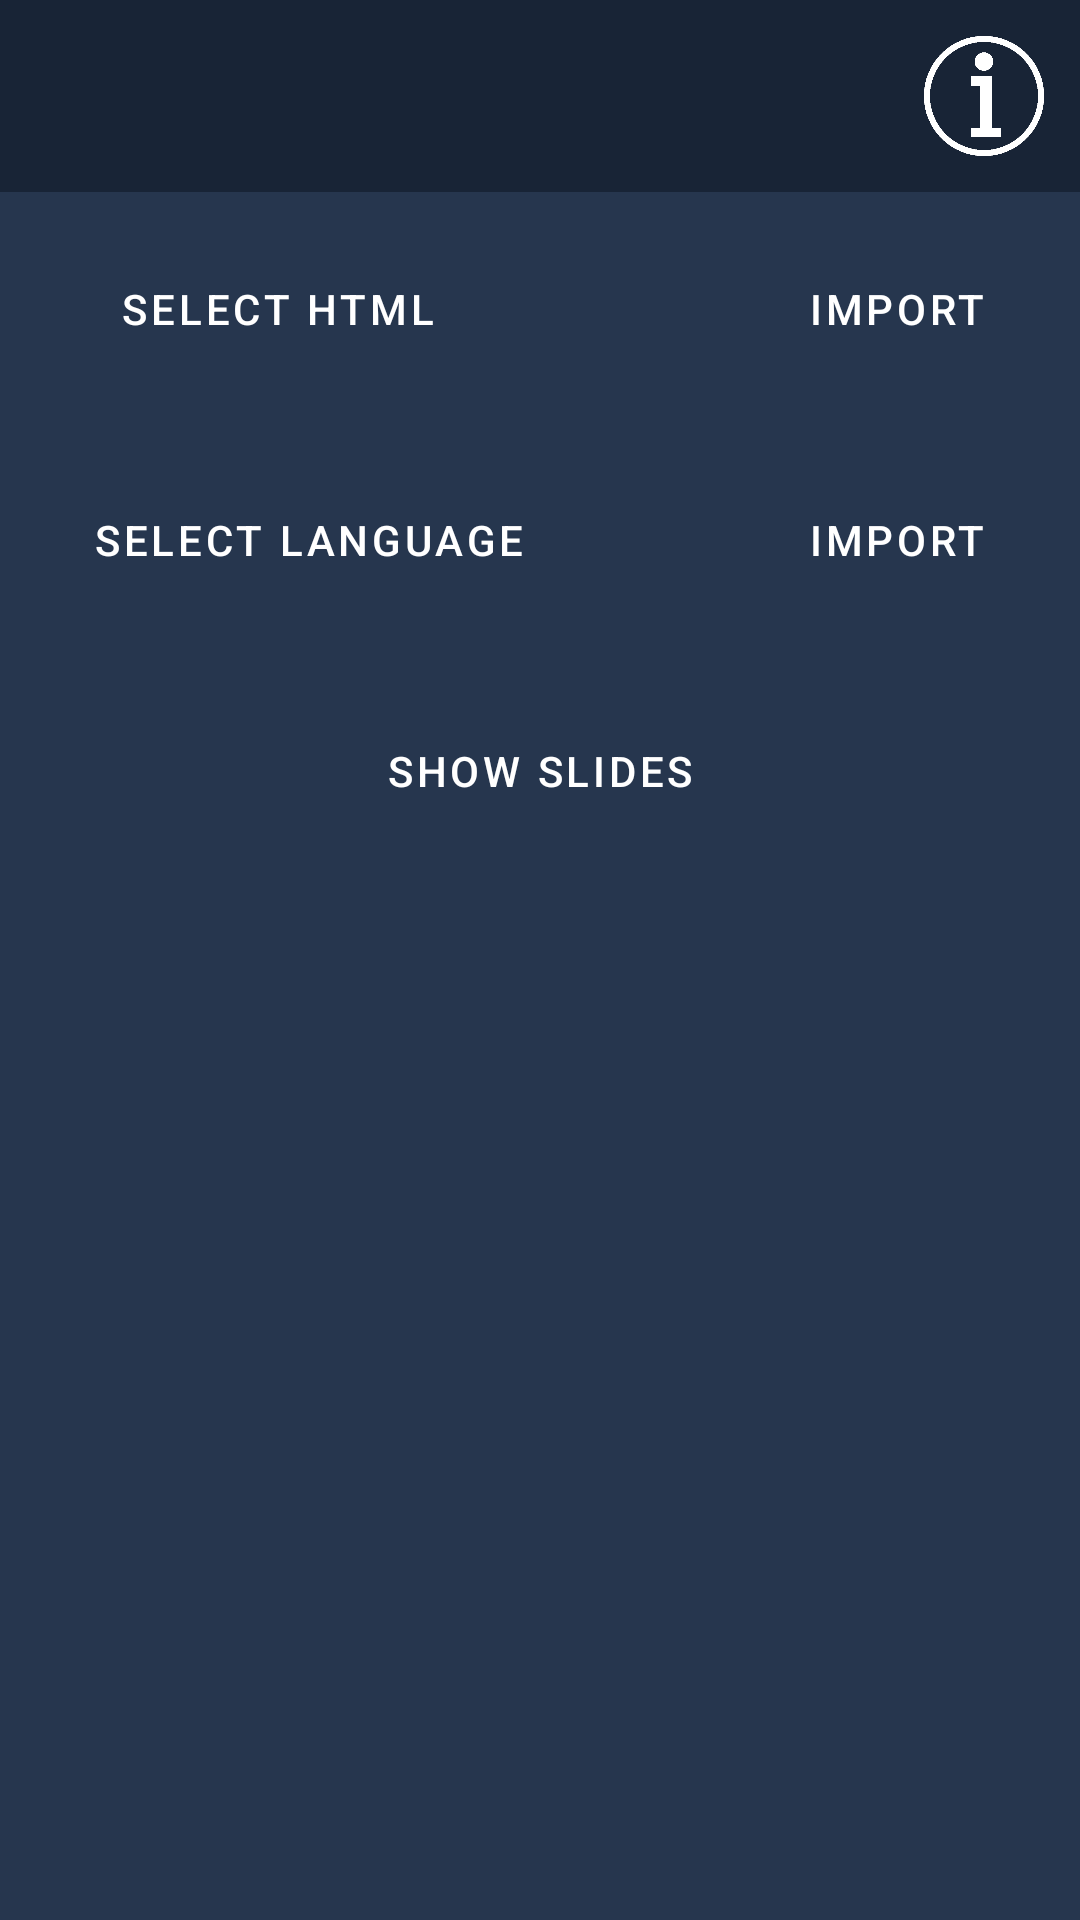

Icons on this 1080×1920 Android screen, each with its box as (x1, y1, x2, y2):
infobox: (924, 36, 1044, 156)
